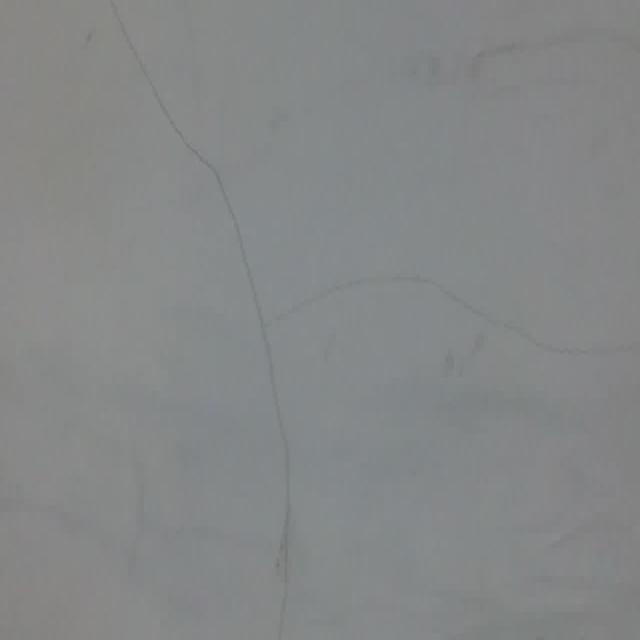Crack: (97, 3, 307, 626), (265, 258, 640, 375)
